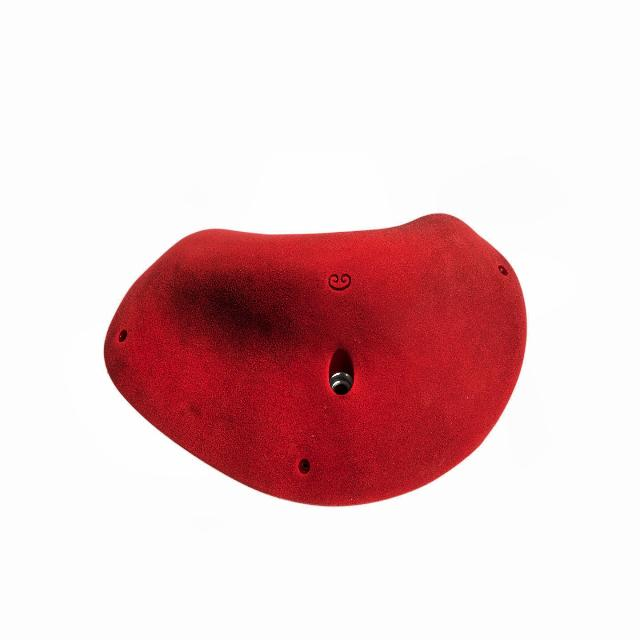Hold: (104, 212, 529, 511)
